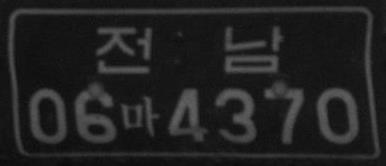0: (316, 85, 361, 144), (28, 87, 68, 145)
3: (215, 86, 256, 144)
4: (167, 87, 209, 142)
6: (73, 85, 117, 144)
7: (263, 86, 306, 145)
마: (121, 95, 160, 137)
전남_D: (96, 24, 283, 75)
